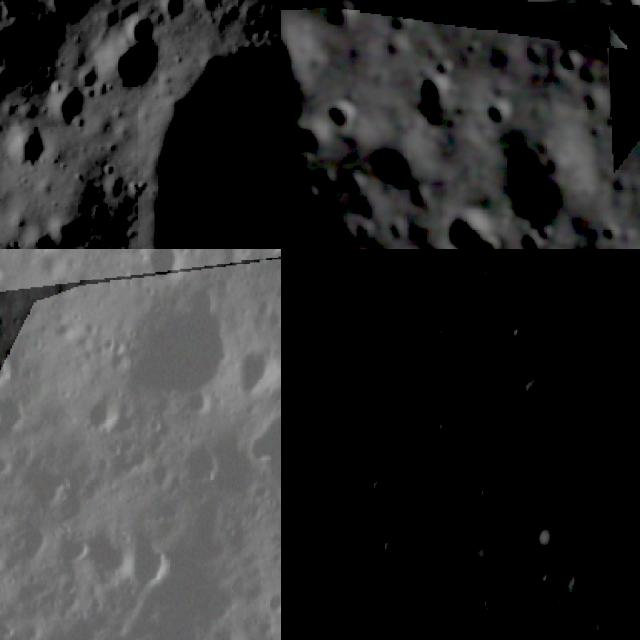crater: (145, 62, 281, 249), (117, 286, 241, 412), (512, 355, 586, 431), (427, 189, 515, 249), (281, 1, 322, 107), (92, 37, 158, 99), (229, 336, 281, 402), (129, 532, 180, 598), (175, 433, 229, 494), (316, 86, 373, 139), (236, 409, 281, 475), (39, 77, 90, 131), (412, 61, 462, 112), (0, 126, 47, 177), (314, 0, 366, 45), (281, 115, 329, 159), (350, 527, 395, 571), (422, 310, 468, 353), (478, 89, 522, 133), (504, 186, 546, 226), (467, 584, 507, 626), (334, 163, 376, 201), (552, 42, 589, 85), (594, 0, 640, 34), (54, 531, 94, 568), (294, 178, 330, 216), (0, 342, 23, 393), (152, 0, 189, 28), (193, 0, 238, 21), (528, 217, 558, 248), (369, 472, 398, 502), (598, 214, 625, 245), (0, 65, 23, 98), (0, 249, 12, 295)
